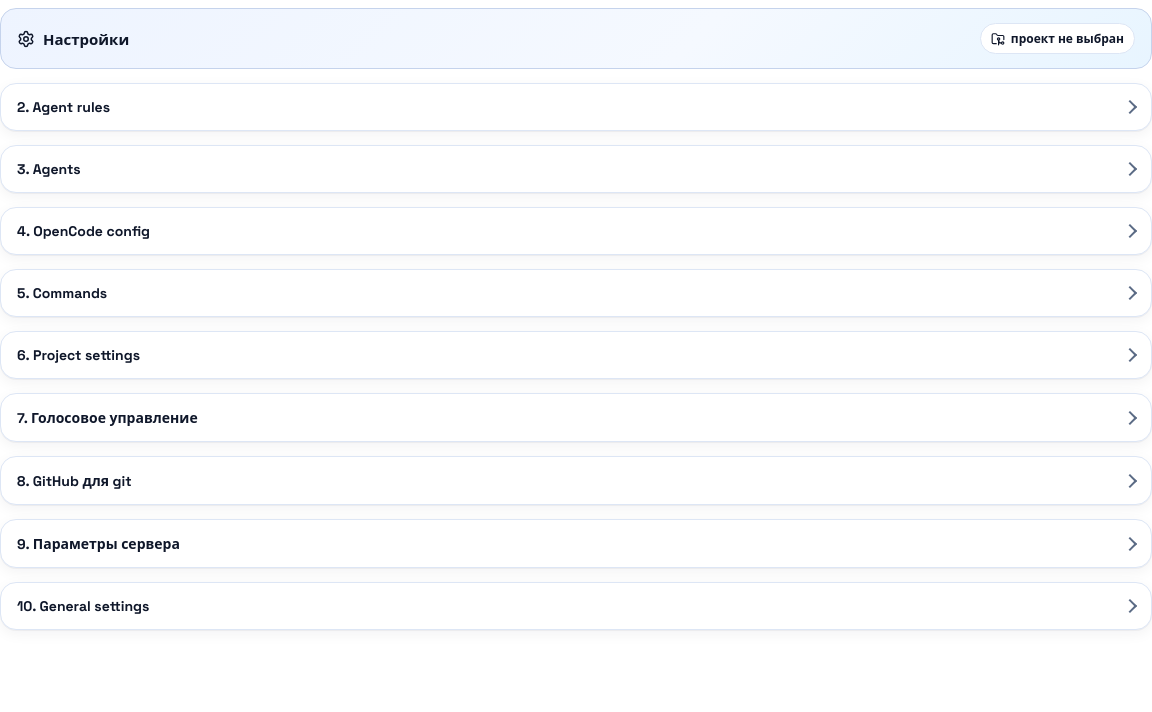
Scenario: SettingsTab › renders saving indicator for voice settings operation
Click the heading "7. Голосовое управление".
click(107, 418)  # box x1=17 y1=409 x2=198 y2=427
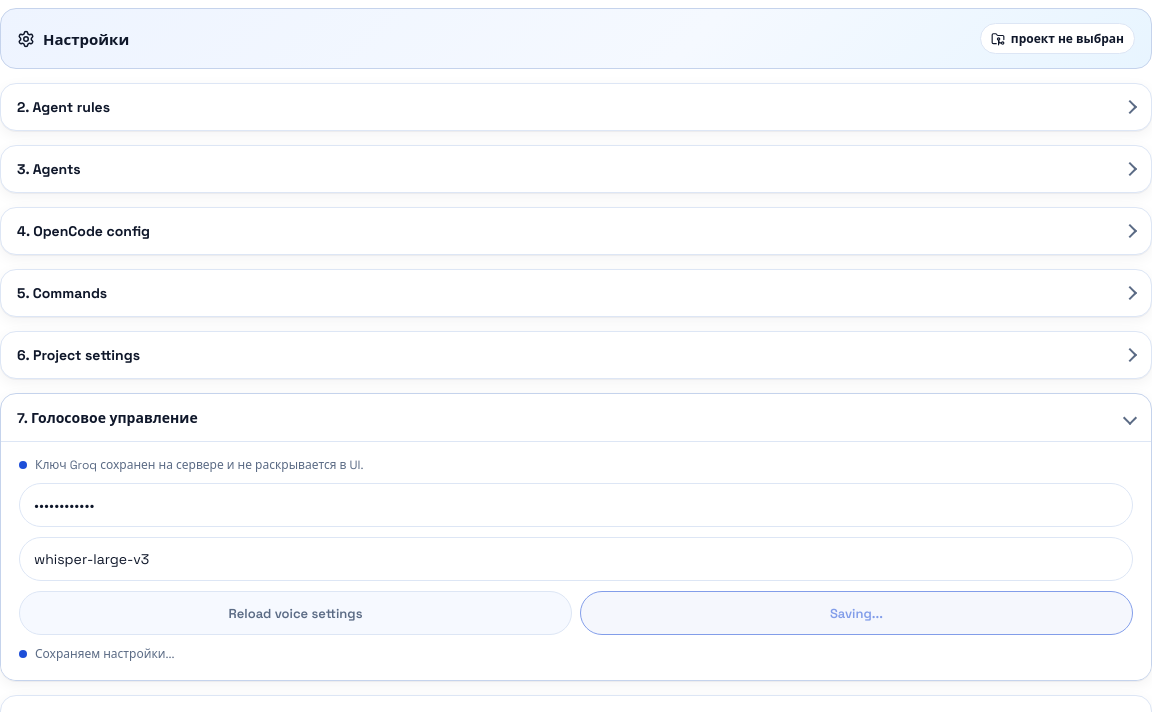
Check: the text "Сохраняем настройки..." is shown, box x1=19 y1=646 x2=175 y2=662
Check: the button "Saving..." is disabled, box x1=580 y1=591 x2=1133 y2=635
